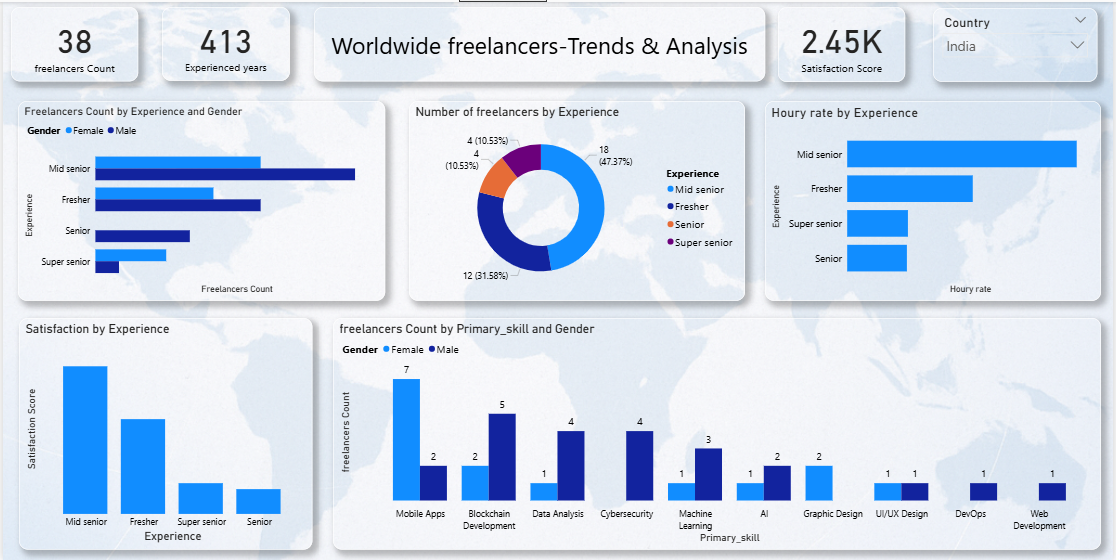

What the dashboard file says about the page in this screenshot:
{"tool":"powerbi","page":{"name":"Page 1","canvas":[1850,930],"ordinal":0},"visuals":[{"type":"donutChart","title":"Number of freelancers by Experience","fields":{"Category":["Table 1 (global_freelancers_raw).Experience(years) (groups)"],"Y":["CountNonNull(Table 1 (global_freelancers_raw).freelancer_ID)"]},"box":[676.4,165.7,559.7,333.1],"z":0},{"type":"columnChart","title":"Satisfaction by Experience","fields":{"Category":["Table 1 (global_freelancers_raw).Experience(years) (groups)"],"Y":["Sum(Table 1 (global_freelancers_raw).Satisfaction)"]},"box":[27.1,525.9,488.7,385.5],"z":1000},{"type":"clusteredColumnChart","fields":{"Category":["Table 1 (global_freelancers_raw).Primary_skill"],"Series":["Table 1 (global_freelancers_raw). Gender"],"Y":["CountNonNull(Table 1 (global_freelancers_raw).freelancer_ID)"]},"box":[549.5,525.9,1280,385.5],"z":2000},{"type":"barChart","fields":{"Category":["Table 1 (global_freelancers_raw).Experience(years) (groups)"],"Y":["Sum(Table 1 (global_freelancers_raw).Houry rate)"]},"box":[1269.9,165.7,559.7,333.1],"z":3000},{"type":"clusteredBarChart","title":"Freelancers Count by Experience and Gender","fields":{"Category":["Table 1 (global_freelancers_raw).Experience(years) (groups)"],"Y":["CountNonNull(Table 1 (global_freelancers_raw).freelancer_ID)"],"Series":["Table 1 (global_freelancers_raw). Gender"]},"box":[25.4,165.7,612.1,333.1],"z":4000},{"type":"card","fields":{"Values":["CountNonNull(Table 1 (global_freelancers_raw).freelancer_ID)"]},"box":[26.7,8.9,159.9,122.6],"z":5000},{"type":"card","fields":{"Values":["Sum(Table 1 (global_freelancers_raw).Experience(years))"]},"box":[207.9,10.7,284.3,122.6],"z":6000},{"type":"slicer","fields":{"Values":["Table 1 (global_freelancers_raw).Country"]},"box":[1550,10,273.3,123.3],"z":7000},{"type":"card","fields":{"Values":["Sum(Table 1 (global_freelancers_raw).Satisfaction)"]},"box":[1292.3,8.3,212.3,124.9],"z":8000},{"type":"shape","box":[518.9,8.9,751.7,124.4],"z":9000}]}

Visuals, with their boxes in screenshot pixels (x1, y1, x2, y2), scaled from the page's 1850x930 canvas onto the 1116x560 screenshot:
"Number of freelancers by Experience" donutChart: [left=408, top=100, right=746, bottom=300]
"Satisfaction by Experience" columnChart: [left=16, top=317, right=311, bottom=549]
clusteredColumnChart - Table 1 (global_freelancers_raw).Primary_skill x Table 1 (global_freelancers_raw). Gender: [left=331, top=317, right=1104, bottom=549]
barChart - Table 1 (global_freelancers_raw).Experience(years) (groups) x Sum(Table 1 (global_freelancers_raw).Houry rate): [left=766, top=100, right=1104, bottom=300]
"Freelancers Count by Experience and Gender" clusteredBarChart: [left=15, top=100, right=385, bottom=300]
card - CountNonNull(Table 1 (global_freelancers_raw).freelancer_ID): [left=16, top=5, right=113, bottom=79]
card - Sum(Table 1 (global_freelancers_raw).Experience(years)): [left=125, top=6, right=297, bottom=80]
slicer - Table 1 (global_freelancers_raw).Country: [left=935, top=6, right=1100, bottom=80]
card - Sum(Table 1 (global_freelancers_raw).Satisfaction): [left=780, top=5, right=908, bottom=80]
shape: [left=313, top=5, right=766, bottom=80]
